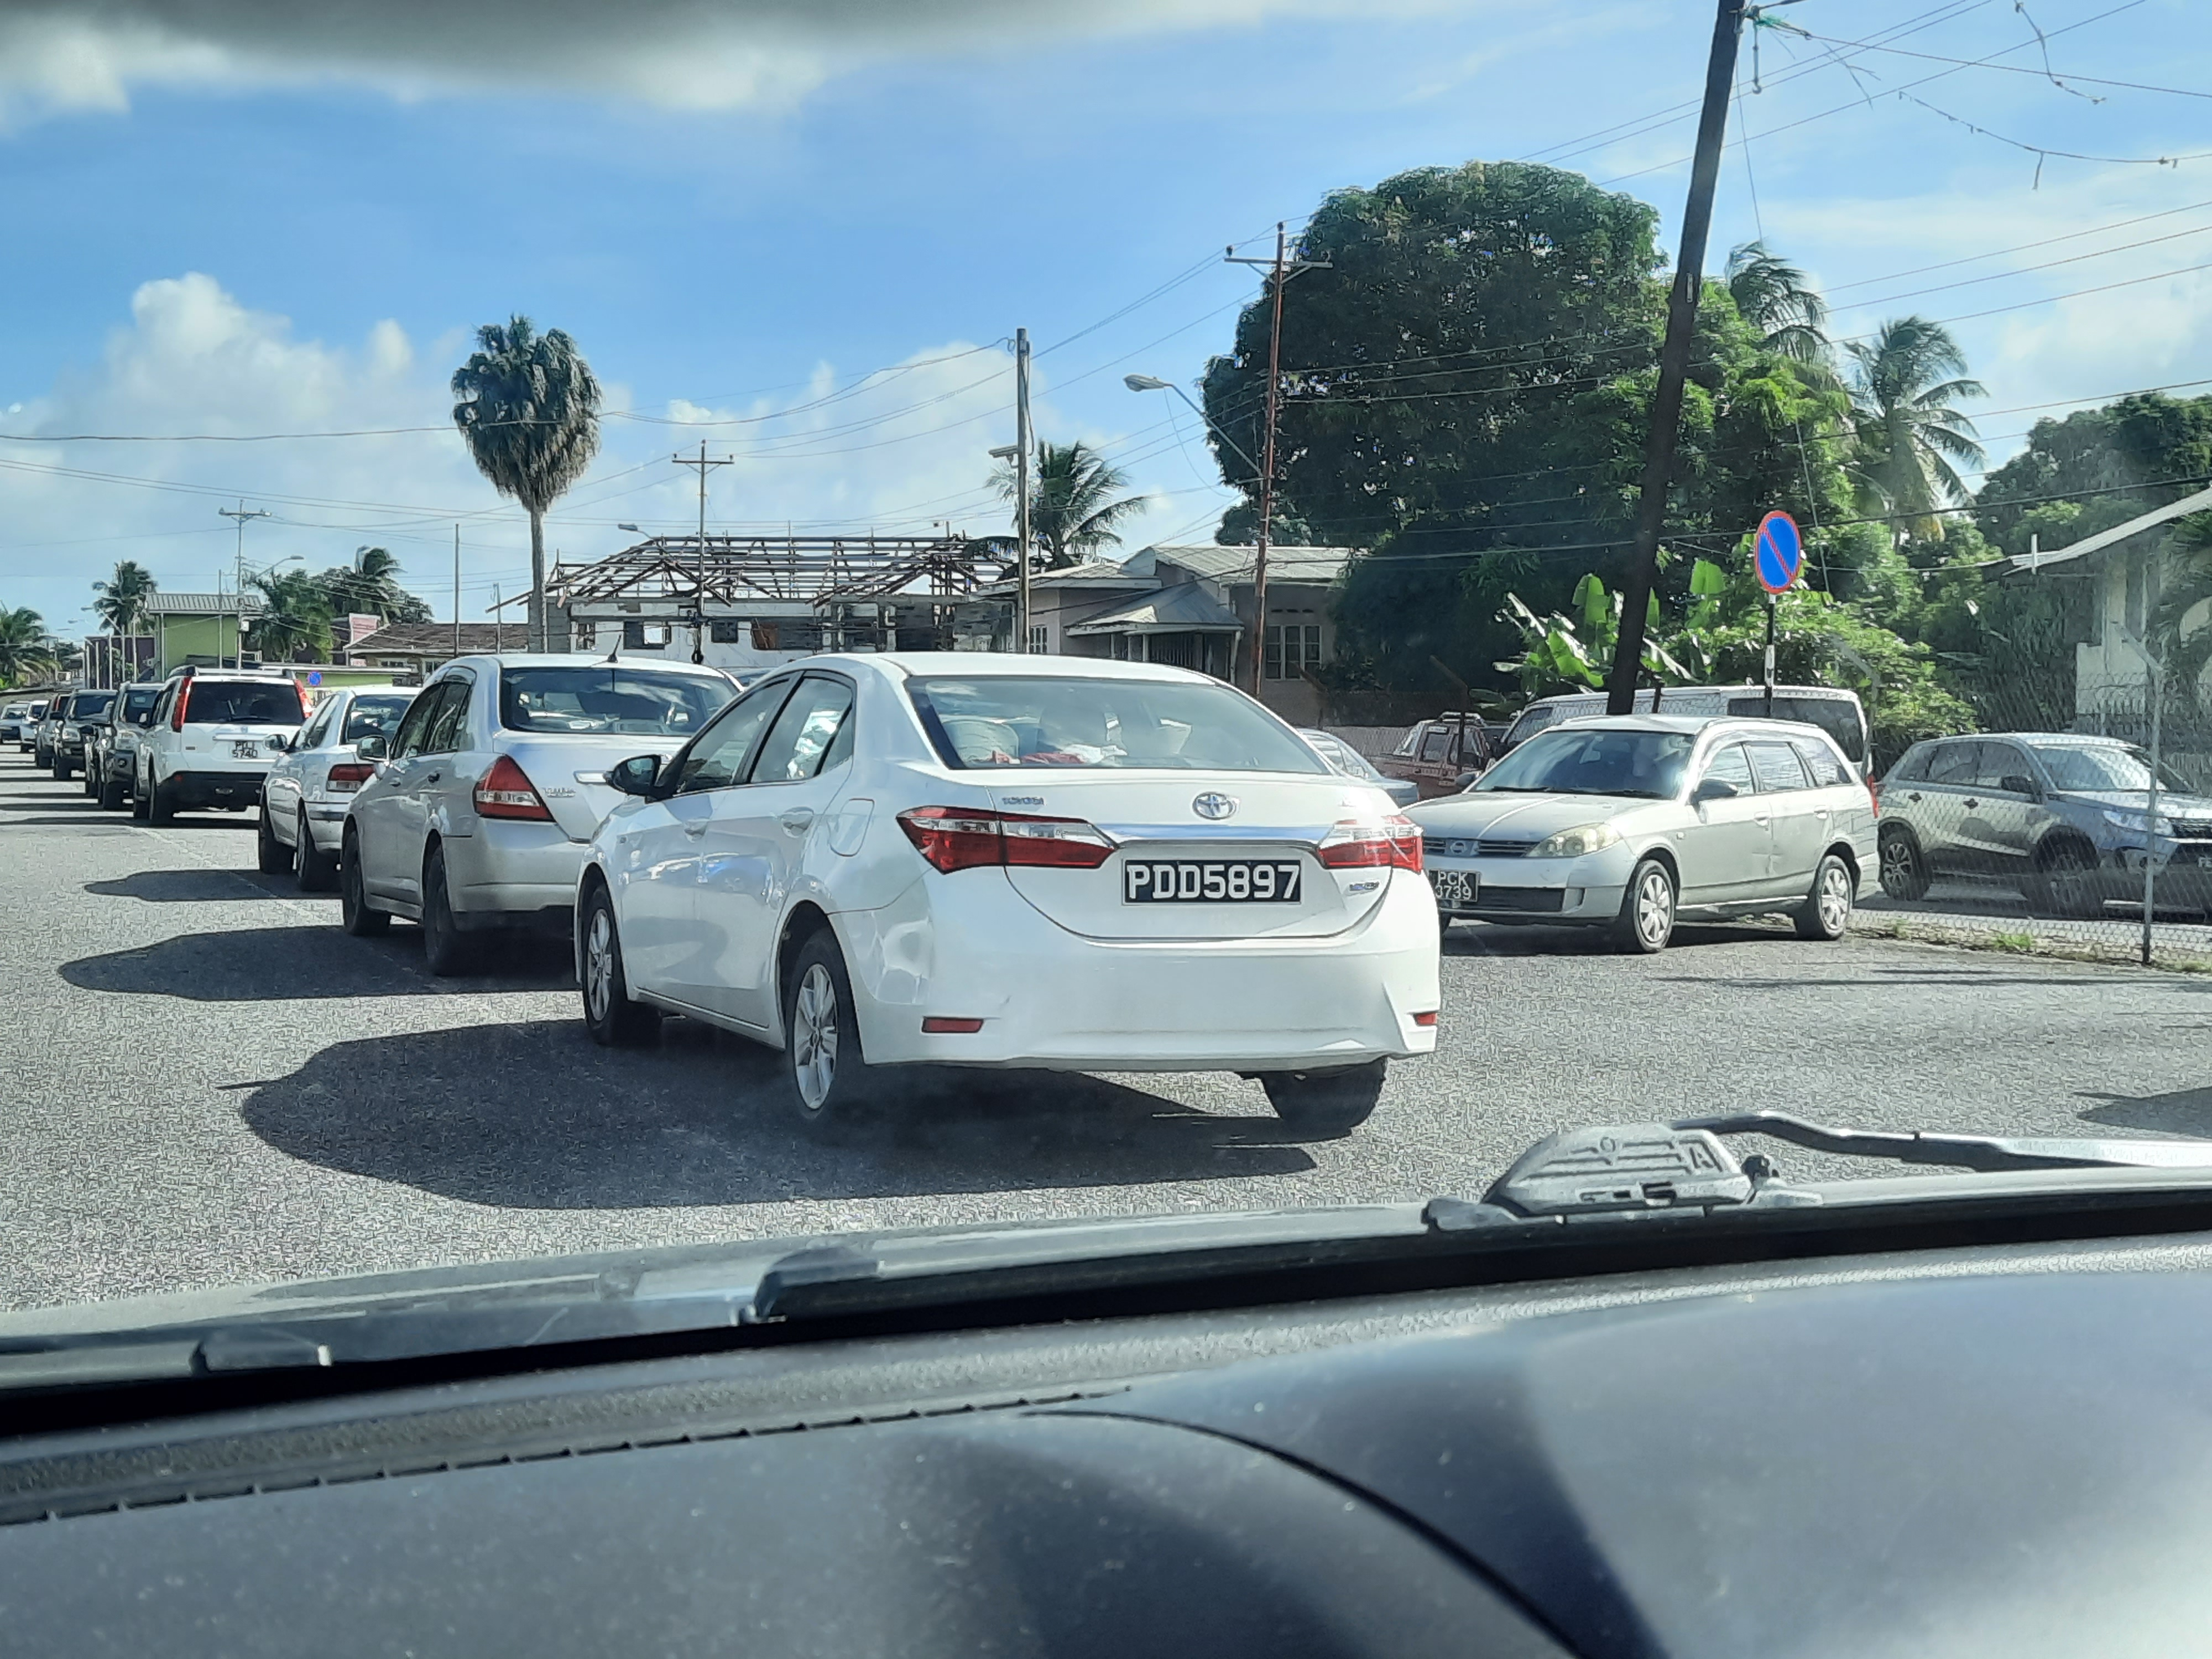License-Plate: (1123, 857, 1302, 903), (1433, 869, 1477, 898)
